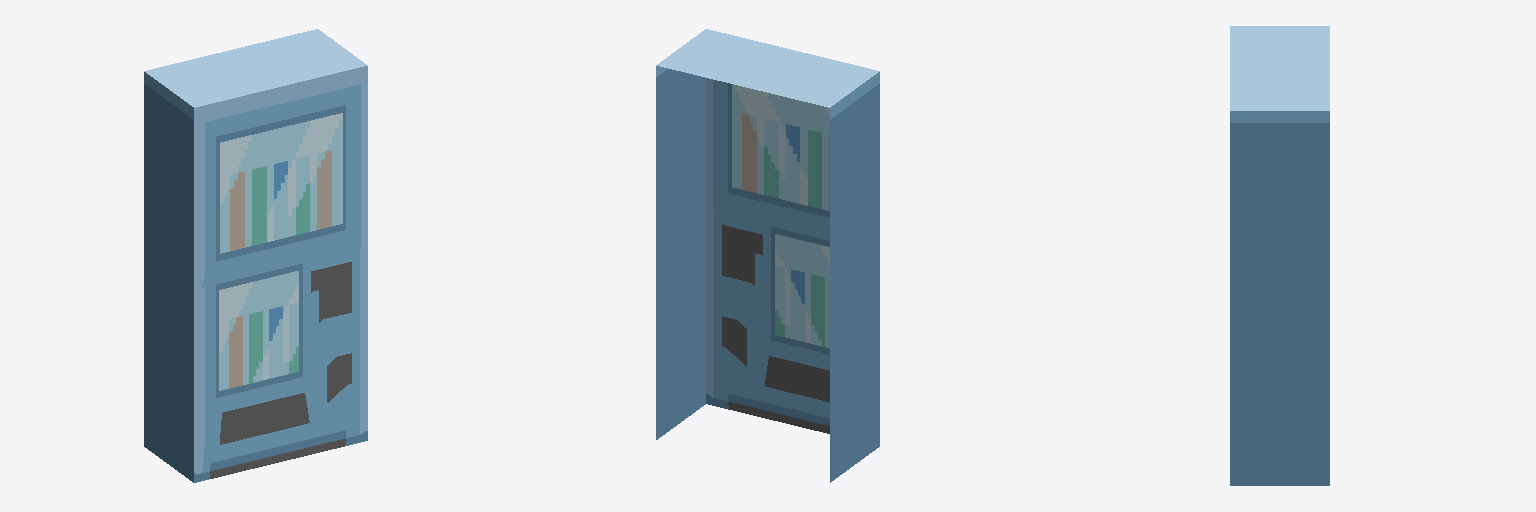
The picture shows the model from 3 angles: view 1: azimuth 30°, elevation 25°; view 2: azimuth 150°, elevation 25°; view 3: azimuth 270°, elevation 25°; orthographic projection.
Visible parts, largest first — view 1: polygon0.008; view 2: polygon0.008; view 3: polygon0.008.
Boxes of the visible parts, box(x1,y1,x2,y2) form: polygon0.008: box(144, 29, 367, 482); polygon0.008: box(656, 29, 879, 482); polygon0.008: box(1230, 26, 1329, 485).
Bounding box in the file's own units: 1 × 2.06 × 0.5.
Materials: 1 (1 with a texture image).